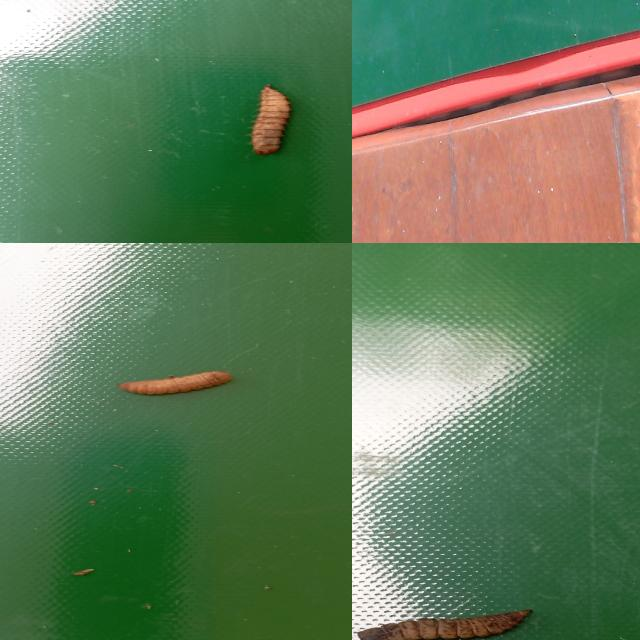Maggot: (357, 611, 534, 640), (250, 87, 293, 158), (119, 372, 235, 398)
